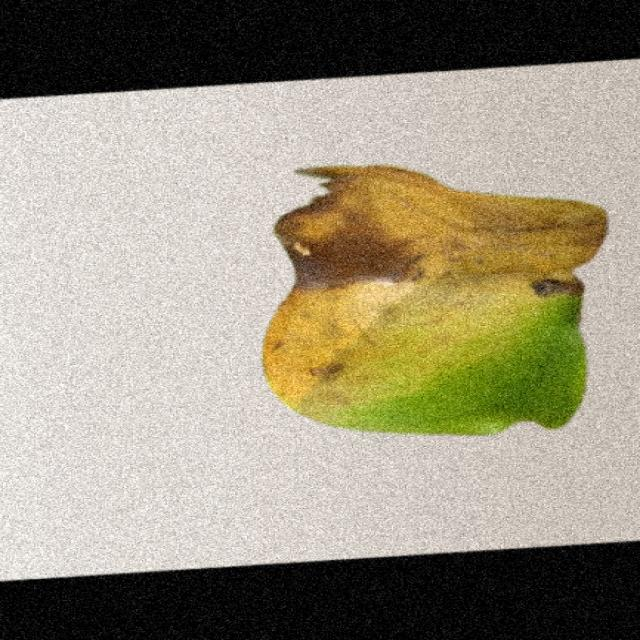daun berpenyakit kuning: (263, 166, 606, 434)
